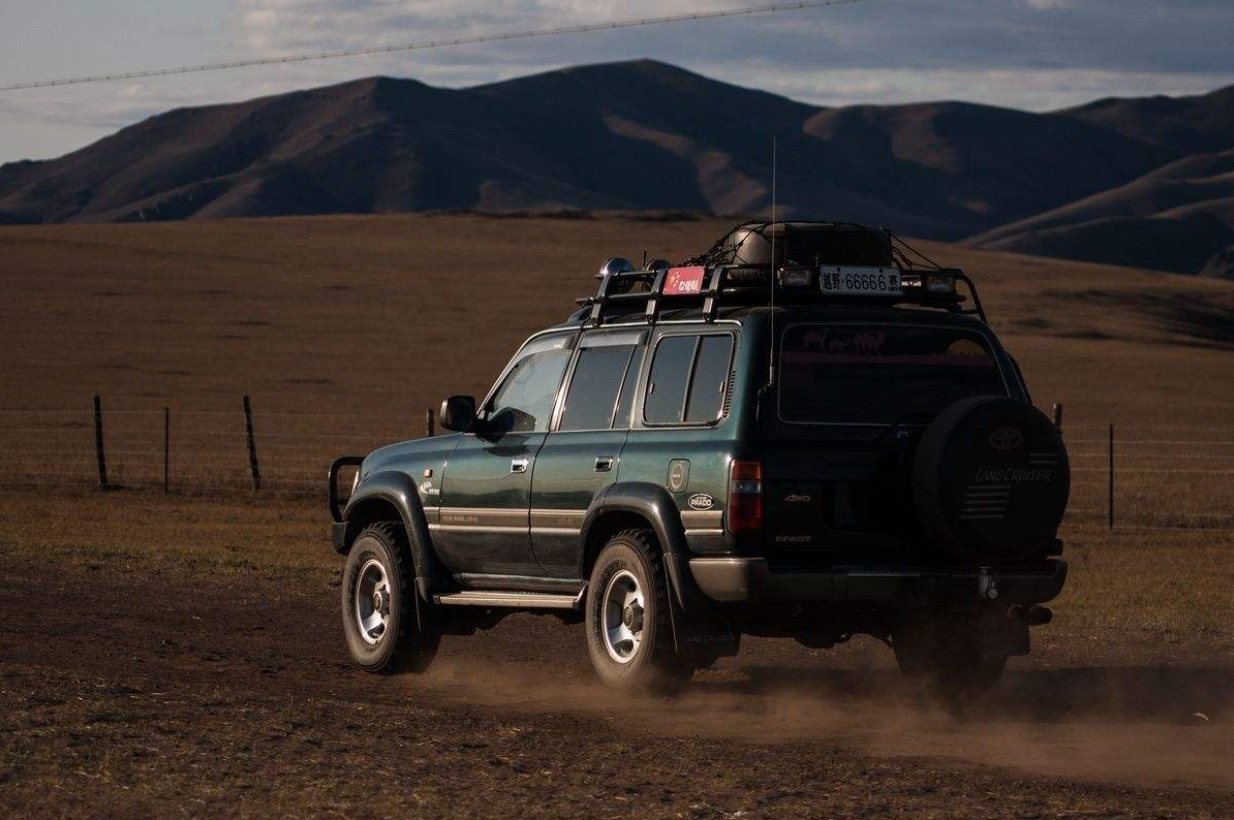jeep: (296, 238, 1098, 719)
